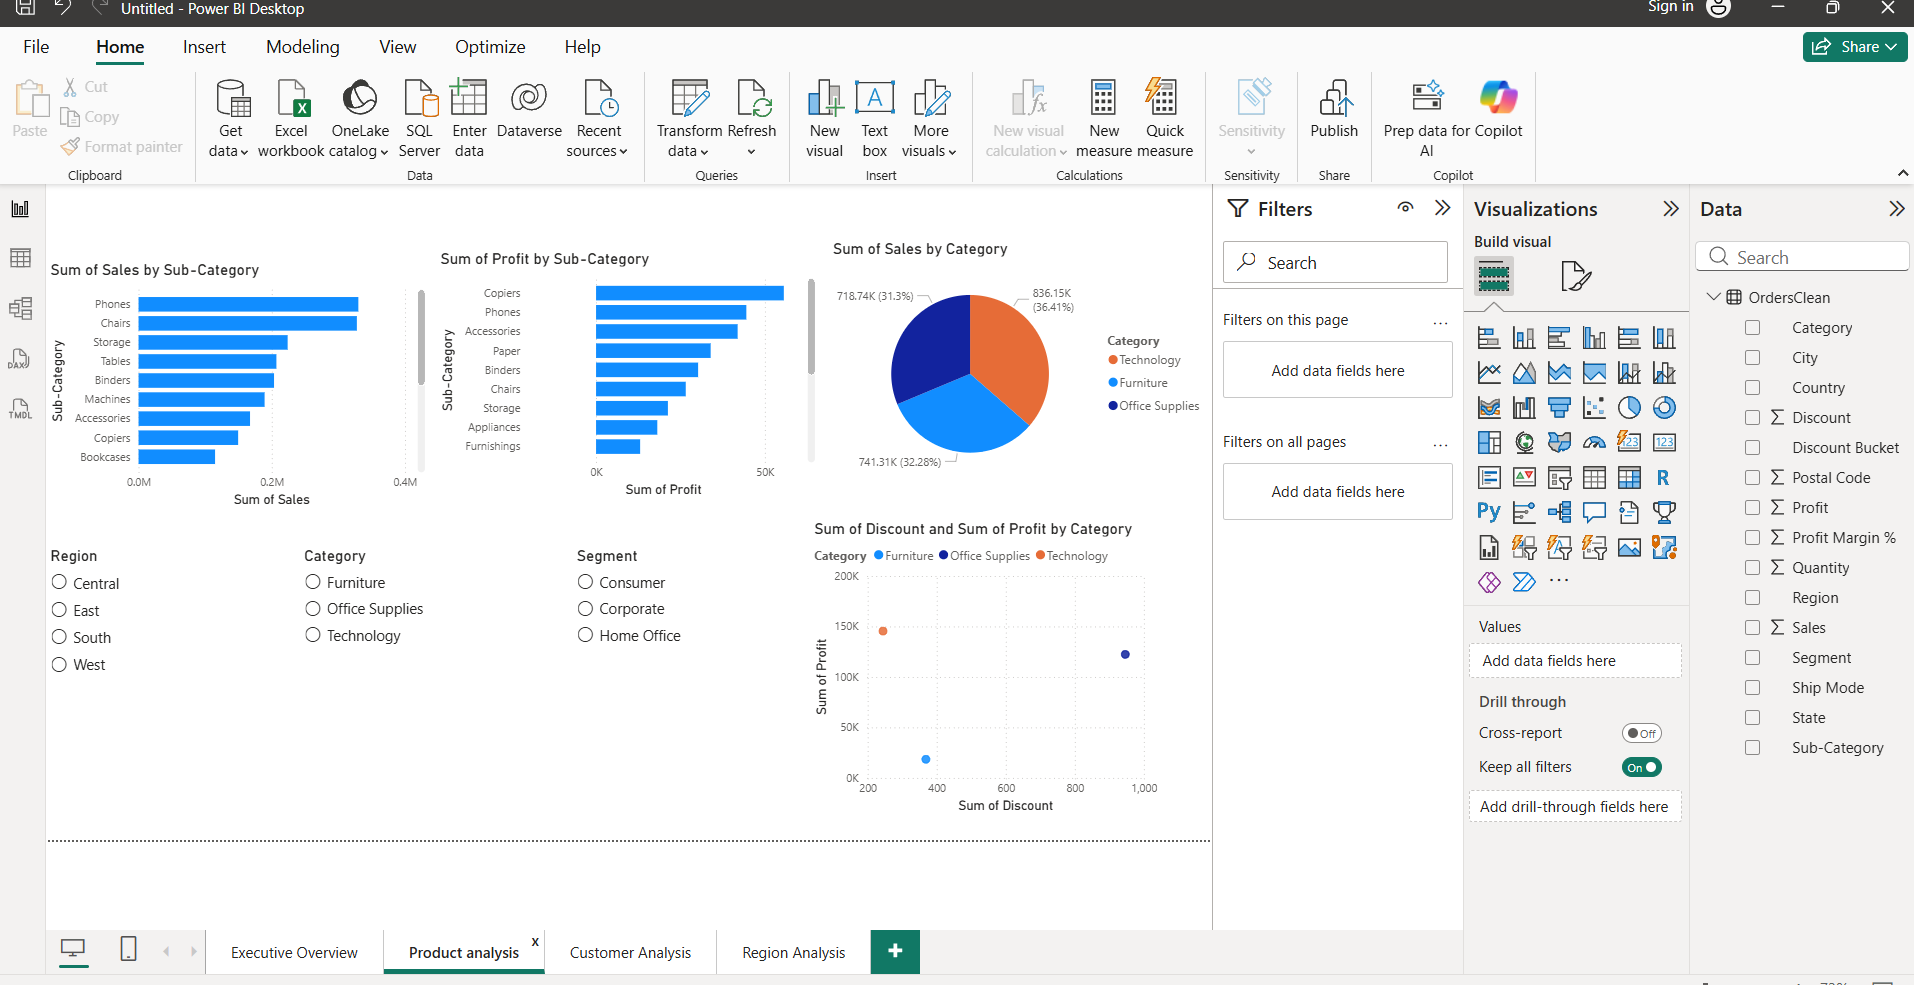

This screenshot's page, from the dashboard's own definition file:
{"tool":"powerbi","page":{"name":"Product analysis ","canvas":[1280,720],"ordinal":1},"visuals":[{"type":"clusteredBarChart","fields":{"Category":["OrdersClean.Sub-Category"],"Y":["Sum(OrdersClean.Sales)"]},"box":[0,31.6,421.3,275.8],"z":0},{"type":"clusteredBarChart","fields":{"Category":["OrdersClean.Sub-Category"],"Y":["Sum(OrdersClean.Profit)"]},"box":[437.7,30.2,421.3,277.2],"z":1000},{"type":"pieChart","fields":{"Category":["OrdersClean.Category"],"Y":["Sum(OrdersClean.Sales)"]},"box":[874.1,31.6,406.2,277.2],"z":2000},{"type":"scatterChart","fields":{"X":["Sum(OrdersClean.Discount)"],"Y":["Sum(OrdersClean.Profit)"],"Series":["OrdersClean.Category"]},"box":[893.3,369.1,387,328],"z":3000},{"type":"slicer","title":"Region Slicer","fields":{"Values":["OrdersClean.Region"]},"box":[0,397.9,260.7,207.2],"z":6001},{"type":"slicer","title":"Category Slicer","fields":{"Values":["OrdersClean.Category"]},"box":[278.6,397.9,244.3,207.2],"z":6002},{"type":"slicer","title":"Segment Slicer","fields":{"Values":["OrdersClean.Segment"]},"box":[559.9,397.9,274.4,207.2],"z":6003}]}

Visuals, with their boxes on the page's 1280x720 design canvas (x1, y1, x2, y2). These are canvas units, not pixel positions in the 1914x985 screenshot, which may show the page scaled, cropped or inside an application window:
clusteredBarChart - OrdersClean.Sub-Category x Sum(OrdersClean.Sales): (left=0, top=32, right=421, bottom=307)
clusteredBarChart - OrdersClean.Sub-Category x Sum(OrdersClean.Profit): (left=438, top=30, right=859, bottom=307)
pieChart - OrdersClean.Category x Sum(OrdersClean.Sales): (left=874, top=32, right=1280, bottom=309)
scatterChart - Sum(OrdersClean.Discount) x Sum(OrdersClean.Profit): (left=893, top=369, right=1280, bottom=697)
"Region Slicer" slicer: (left=0, top=398, right=261, bottom=605)
"Category Slicer" slicer: (left=279, top=398, right=523, bottom=605)
"Segment Slicer" slicer: (left=560, top=398, right=834, bottom=605)
